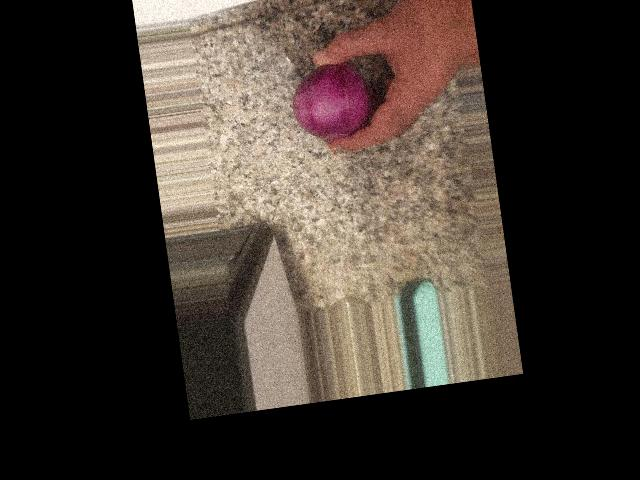onion: (287, 50, 370, 150)
